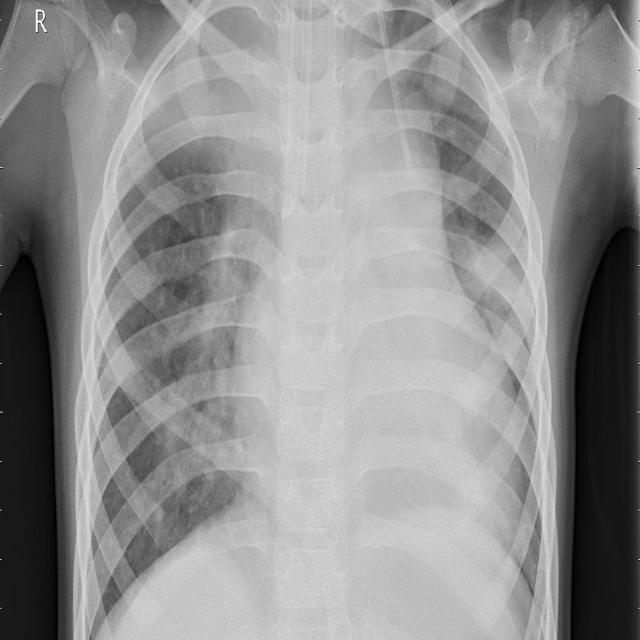high-pneumonia: (144, 18, 286, 245)
low-pneumonia: (446, 219, 519, 351)
no-pneumonia: (158, 239, 267, 532)
